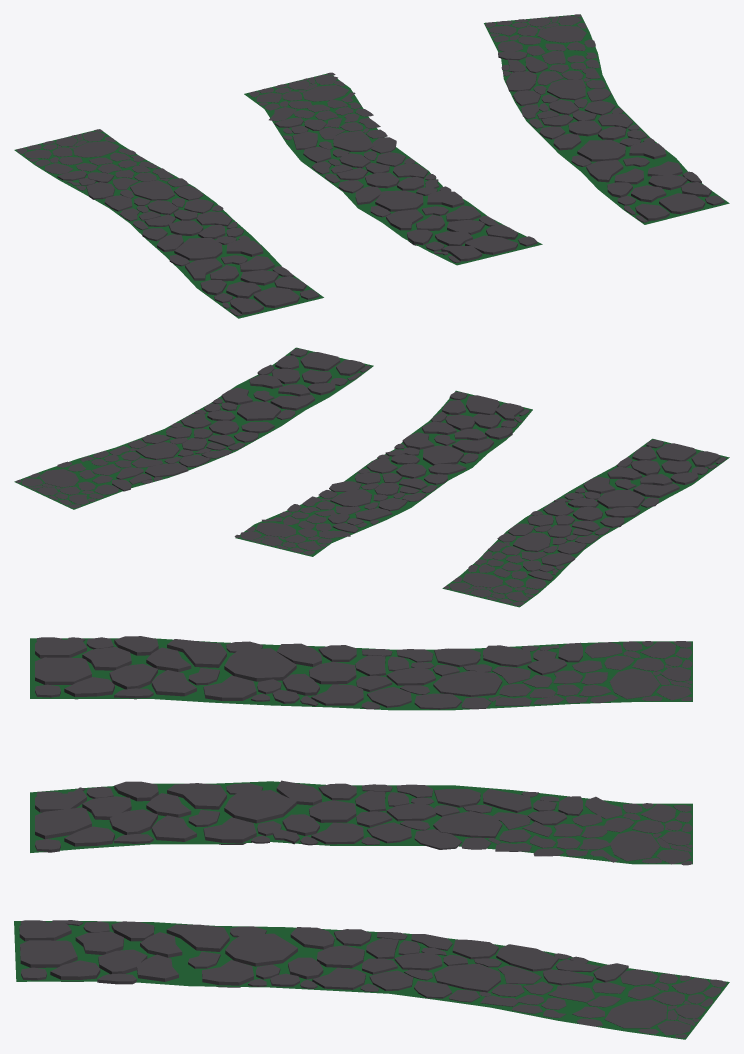
Rendered from stoen_path.fbx.
3 views of the same model, one above another, from view 1: azimuth 30°, elevation 25°; view 2: azimuth 150°, elevation 25°; view 3: azimuth 270°, elevation 25° (orthographic). The views are drawn at different scales.
Visible parts, largest first — view 1: Path 3, Path 2, Path 1; view 2: Path 3, Path 2, Path 1; view 3: Path 3, Path 2, Path 1.
Boxes of the visible parts, <box> form: Path 3: <box>484,14,729,224</box>; Path 2: <box>244,72,542,265</box>; Path 1: <box>14,129,323,318</box>; Path 3: <box>14,347,373,509</box>; Path 2: <box>234,390,532,556</box>; Path 1: <box>442,438,729,607</box>; Path 3: <box>14,920,729,1039</box>; Path 2: <box>30,780,692,865</box>; Path 1: <box>30,636,692,710</box>.
Bounding box in the file's own units: 331 × 2.15 × 249.
